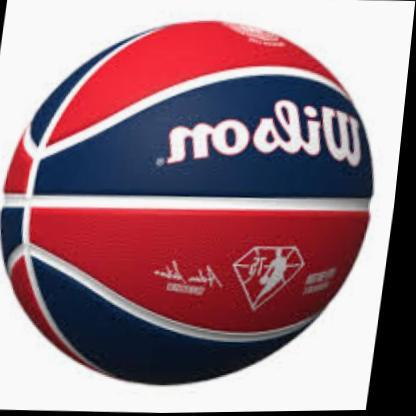basketball: (0, 12, 395, 396)
